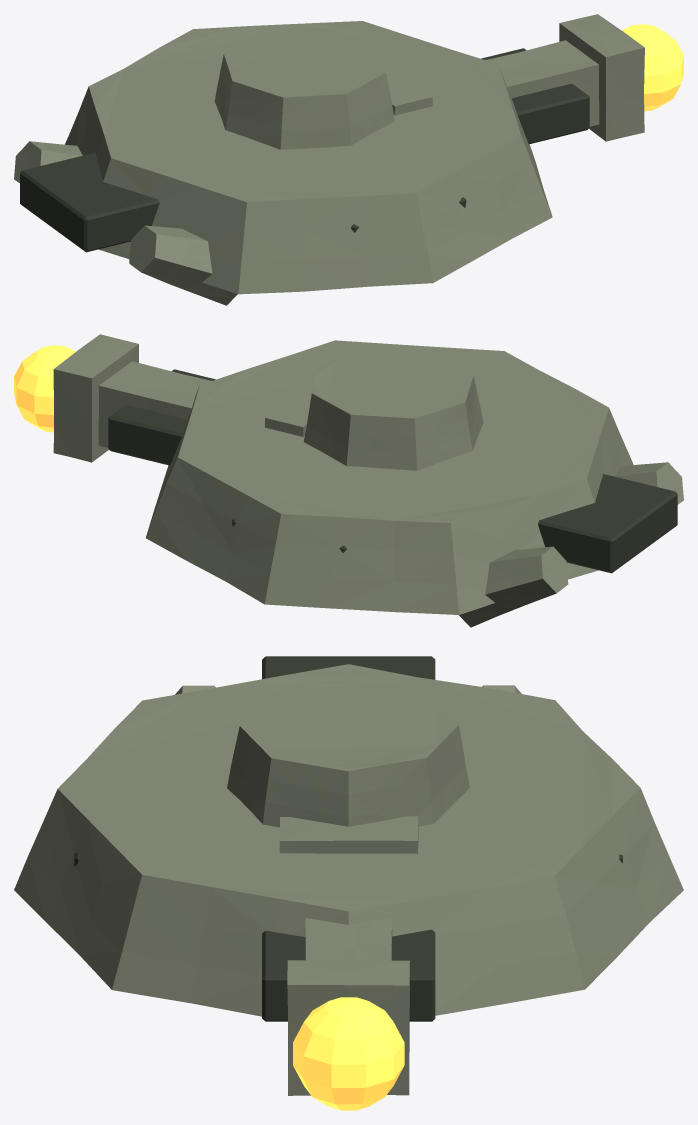
Rendered from sentry_pre.glb.
3 views of the same model, one above another, from view 1: azimuth 30°, elevation 25°; view 2: azimuth 150°, elevation 25°; view 3: azimuth 270°, elevation 25° (orthographic). The views are drawn at different scales.
Visible parts, largest first — view 1: VR_Sentry_Hull, VR_Sentry_Base, VR_Sentry_Barrel, VR_Sentry_Charge; view 2: VR_Sentry_Hull, VR_Sentry_Base, VR_Sentry_Barrel, VR_Sentry_Charge; view 3: VR_Sentry_Hull, VR_Sentry_Barrel, VR_Sentry_Charge, VR_Sentry_Base.
Boxes of the visible parts, <box> form: VR_Sentry_Hull: <box>14,21,552,305</box>; VR_Sentry_Base: <box>20,48,589,252</box>; VR_Sentry_Barrel: <box>382,14,644,141</box>; VR_Sentry_Charge: <box>622,24,683,111</box>; VR_Sentry_Hull: <box>146,340,683,627</box>; VR_Sentry_Base: <box>108,369,677,573</box>; VR_Sentry_Barrel: <box>53,334,314,462</box>; VR_Sentry_Charge: <box>14,345,75,432</box>; VR_Sentry_Hull: <box>14,664,683,1016</box>; VR_Sentry_Barrel: <box>279,816,418,1095</box>; VR_Sentry_Charge: <box>293,997,404,1110</box>; VR_Sentry_Base: <box>74,656,622,1021</box>.
Bounding box in the file's own units: 3.26 × 0.7979 × 2.32.
